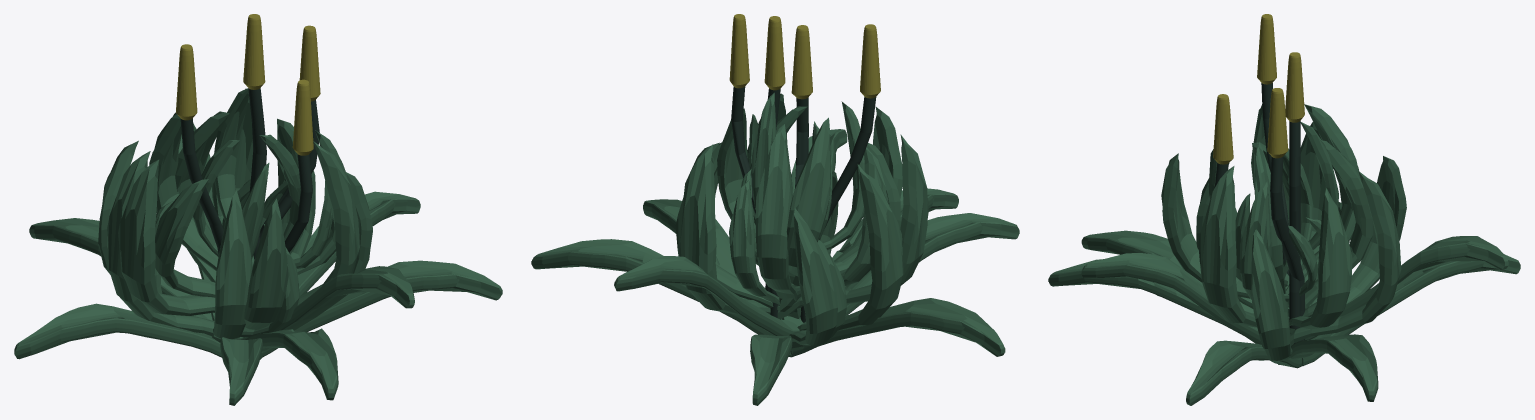
Rendered from Aloevera.fbx.
3 views of the same model, side by side, from view 1: azimuth 30°, elevation 25°; view 2: azimuth 150°, elevation 25°; view 3: azimuth 270°, elevation 25° (orthographic). The views are drawn at different scales.
Parts seen in each view (by area): view 1: Aloe vera; view 2: Aloe vera; view 3: Aloe vera.
Part boxes in pixels (x1,y1,x2,y2): Aloe vera: (14,14,502,405); Aloe vera: (531,14,1019,405); Aloe vera: (1048,14,1520,405).
Size of the model in its own units: 103 by 75.2 by 102.
